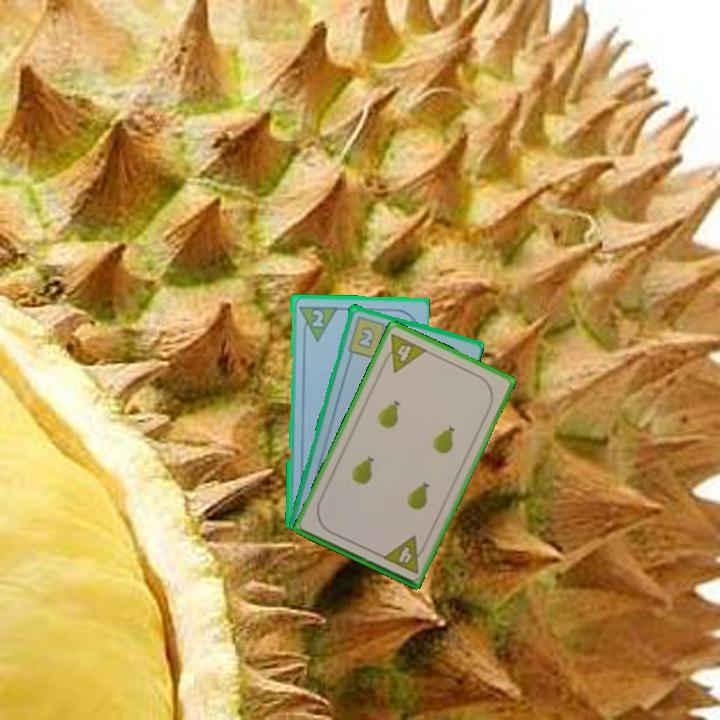2b: (344, 313, 394, 361)
2p: (306, 306, 326, 330)
4p: (378, 330, 430, 375), (379, 532, 430, 576)
